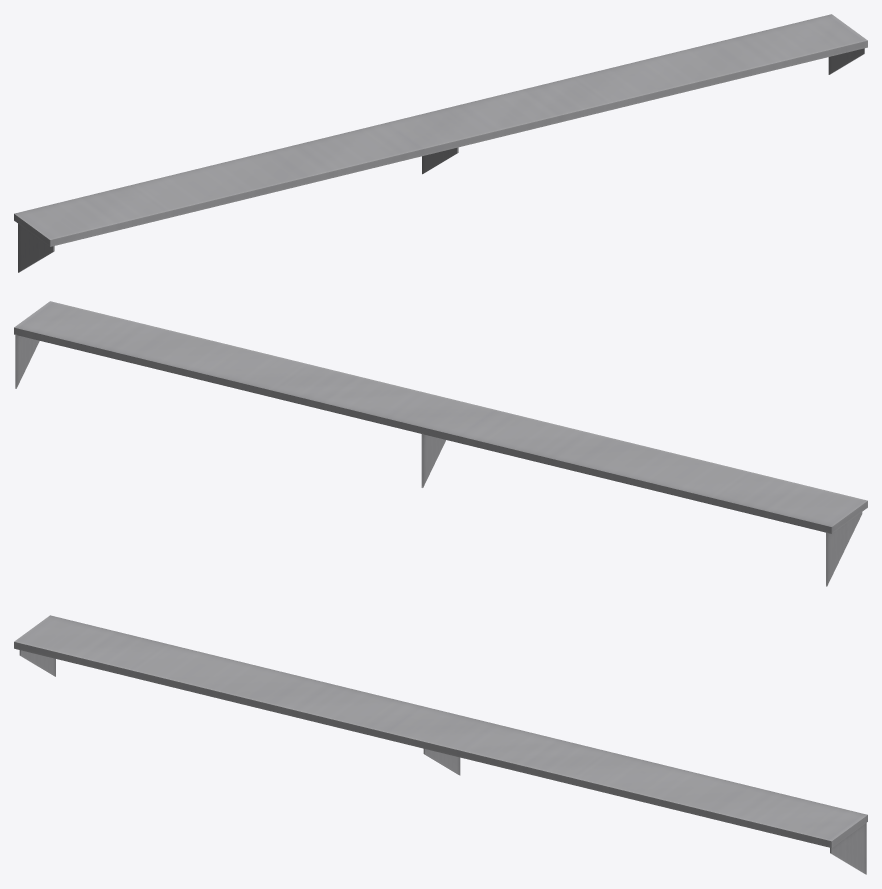
File: jsf_AdditionalTable_s03.fbx
3 views of the same model, one above another, from view 1: azimuth 30°, elevation 25°; view 2: azimuth 150°, elevation 25°; view 3: azimuth 330°, elevation 25° (orthographic).
Visible parts, largest first — view 1: jsf_AdditionalTable_s03; view 2: jsf_AdditionalTable_s03; view 3: jsf_AdditionalTable_s03.
Part boxes in pixels (x1,y1,x2,y2): jsf_AdditionalTable_s03: (14,14,867,272); jsf_AdditionalTable_s03: (14,301,867,586); jsf_AdditionalTable_s03: (14,615,867,874).
Size of the model in its own units: 261 by 18.46 by 20.2.
